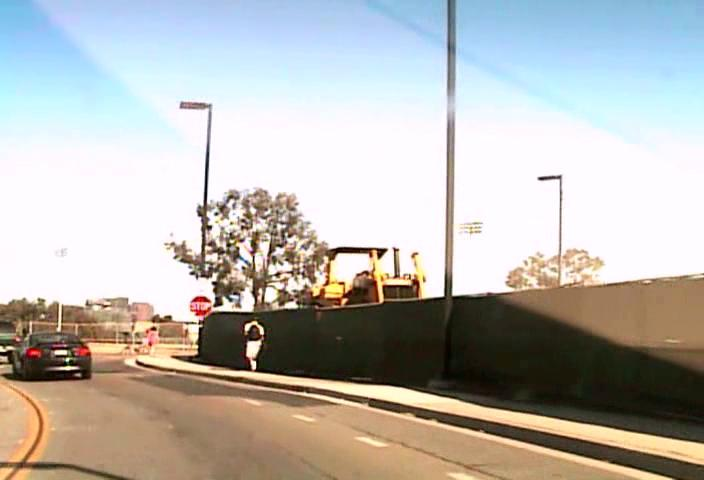stop: (189, 295, 211, 317)
